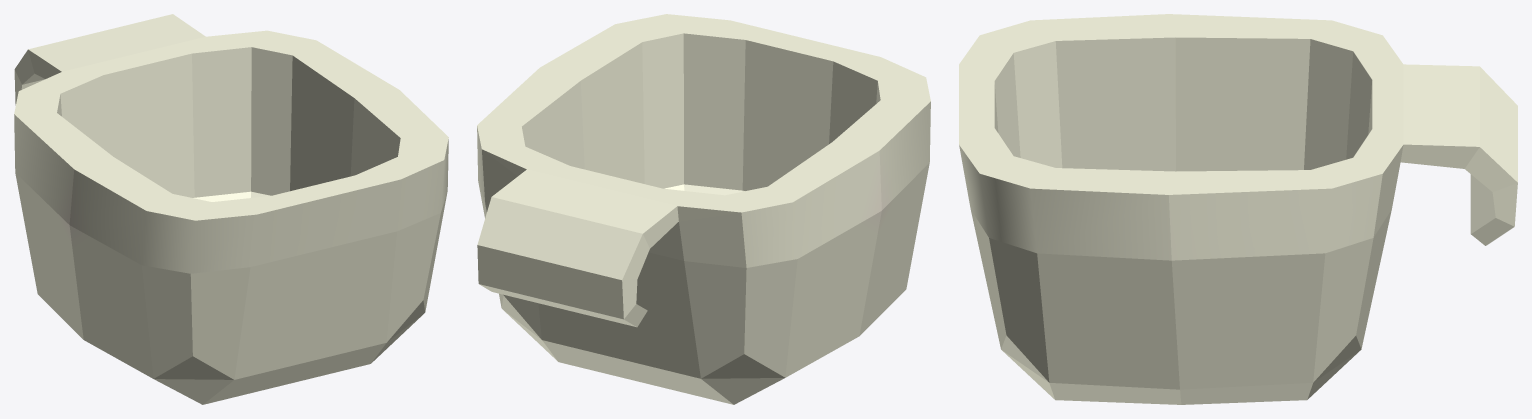
File: PlantPot_41.fbx
The picture shows the model from 3 angles, left to right: view 1: azimuth 30°, elevation 25°; view 2: azimuth 150°, elevation 25°; view 3: azimuth 270°, elevation 25°; orthographic projection. The views are drawn at different scales.
Parts seen in each view (by area): view 1: PlantPot_41; view 2: PlantPot_41; view 3: PlantPot_41.
Part boxes in pixels (x1,y1,x2,y2): PlantPot_41: (14, 14, 448, 404); PlantPot_41: (477, 14, 930, 404); PlantPot_41: (959, 14, 1517, 404).
Bounding box in the file's own units: 22.63 × 14.21 × 28.92.
